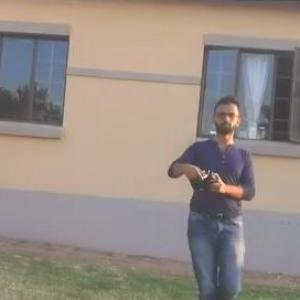follow: (165, 86, 265, 299)
